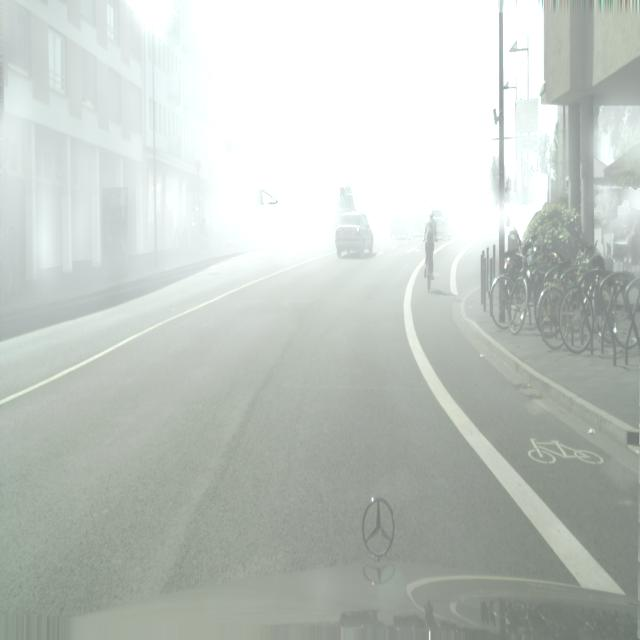car: (538, 246, 596, 349), (559, 261, 618, 355), (508, 245, 559, 336), (489, 252, 525, 329), (423, 212, 435, 279)
person: (303, 203, 321, 238), (322, 210, 333, 234)
truck: (335, 211, 374, 258), (507, 204, 542, 256), (430, 206, 458, 239), (389, 208, 413, 240), (460, 207, 489, 229), (409, 206, 426, 238)
